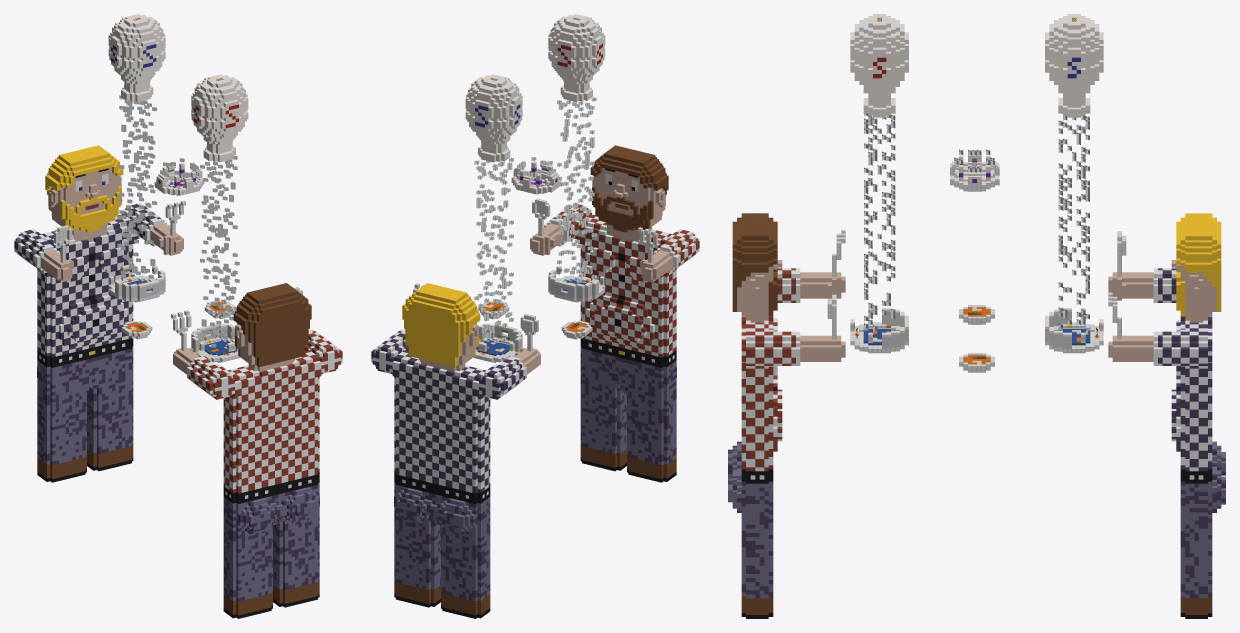
The model's file is minecraft.obj.
3 renders of one model, left to right at view 1: azimuth 30°, elevation 25°; view 2: azimuth 150°, elevation 25°; view 3: azimuth 270°, elevation 25°, orthographic. The views are drawn at different scales.
Size of the model in its own units: 40 by 140 by 110.
